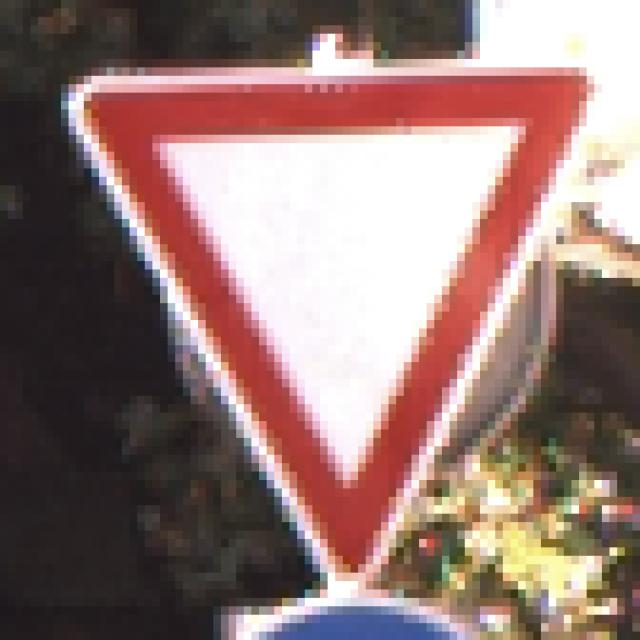Give Way: (62, 52, 588, 582)
